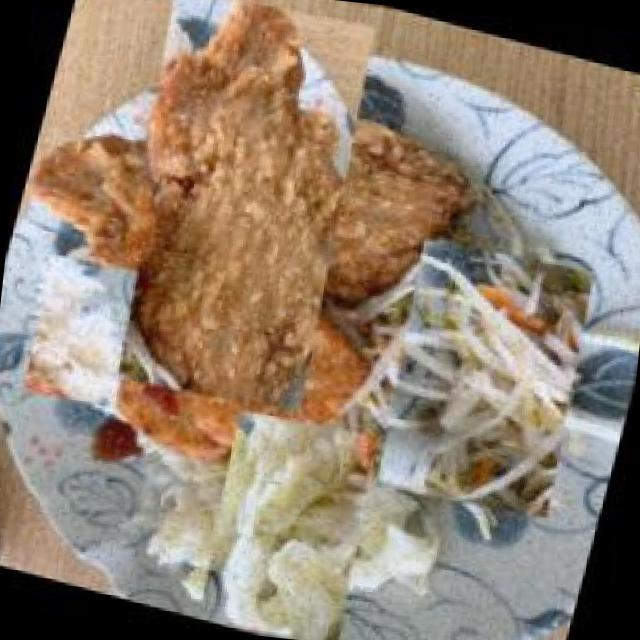chinese_cabbage: (169, 409, 409, 640)
fried_chicken: (39, 1, 438, 402)
mung_bean_sprouts: (358, 224, 616, 536)
rice: (12, 244, 151, 416)
triangle_hash_brown: (95, 244, 391, 501)
